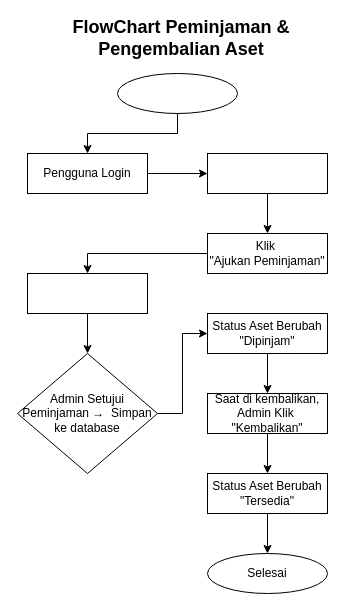
The diagram is 345 pixels wide and 611 high, and some of its shapes have lost their labels. Here are the shapes that lost their labels. From the top down, the box of each, then its label:
(116, 72, 238, 114): Mulai
(206, 152, 328, 194): Lihat Daftar Aset
(26, 272, 148, 314): Kirim form ke Admin
